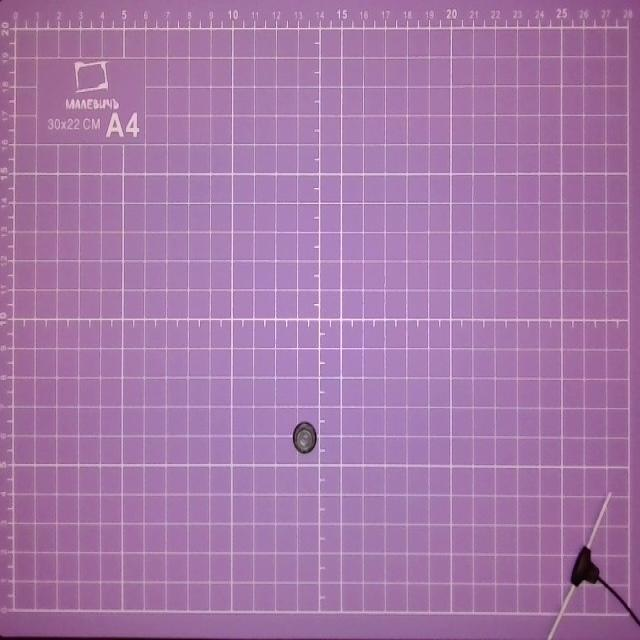antenna: (544, 493, 640, 640)
screw_M5: (286, 417, 320, 455)
